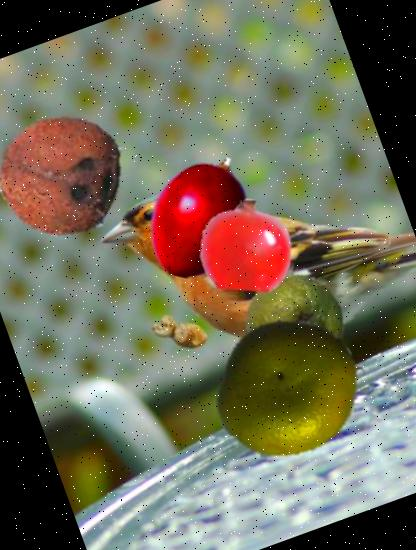Cocos: (0, 91, 147, 260)
Ginger: (142, 294, 216, 368)
Limes: (230, 258, 359, 388)
Pomelo: (192, 293, 382, 483)
Redcurrant: (185, 184, 308, 306)
Tamarillo: (118, 134, 281, 298)
